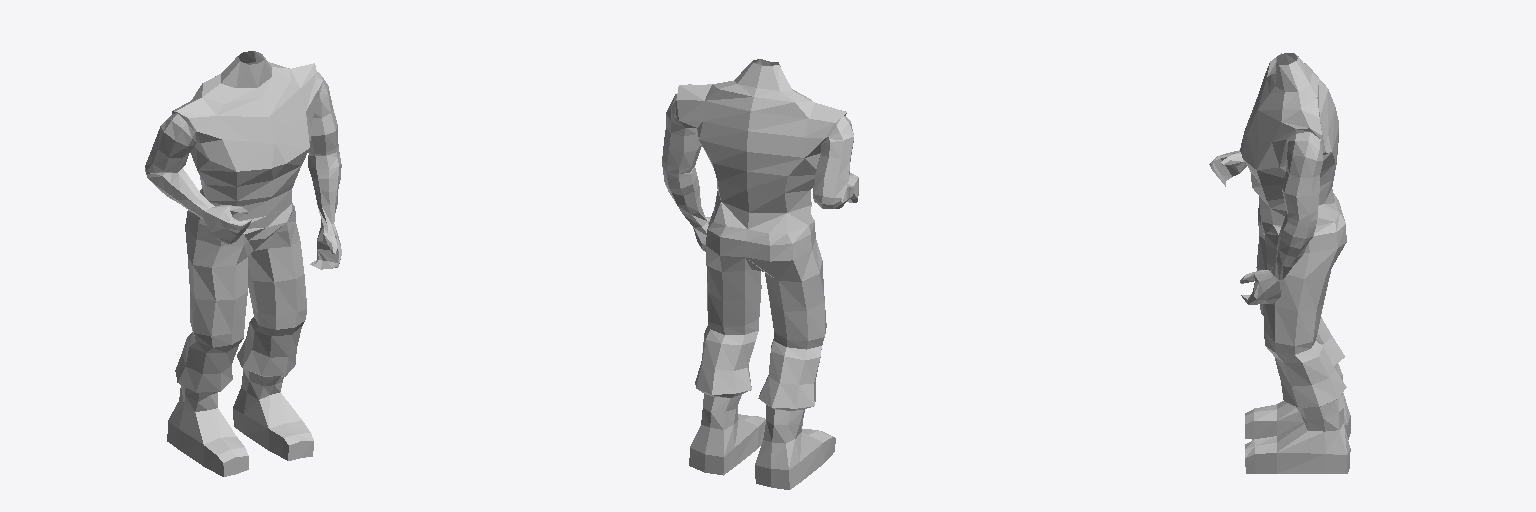
The model's file is pistol_body.obj.
The picture shows the model from 3 angles: view 1: azimuth 30°, elevation 25°; view 2: azimuth 150°, elevation 25°; view 3: azimuth 270°, elevation 25°; orthographic projection.
Visible parts, largest first — view 1: Group; view 2: Group; view 3: Group.
Boxes of the visible parts, x1,y1,x2,y2 form: Group: [145, 51, 341, 476]; Group: [662, 59, 858, 489]; Group: [1209, 53, 1350, 473].
Bounding box in the file's own units: 25.15 × 51.61 × 16.69.